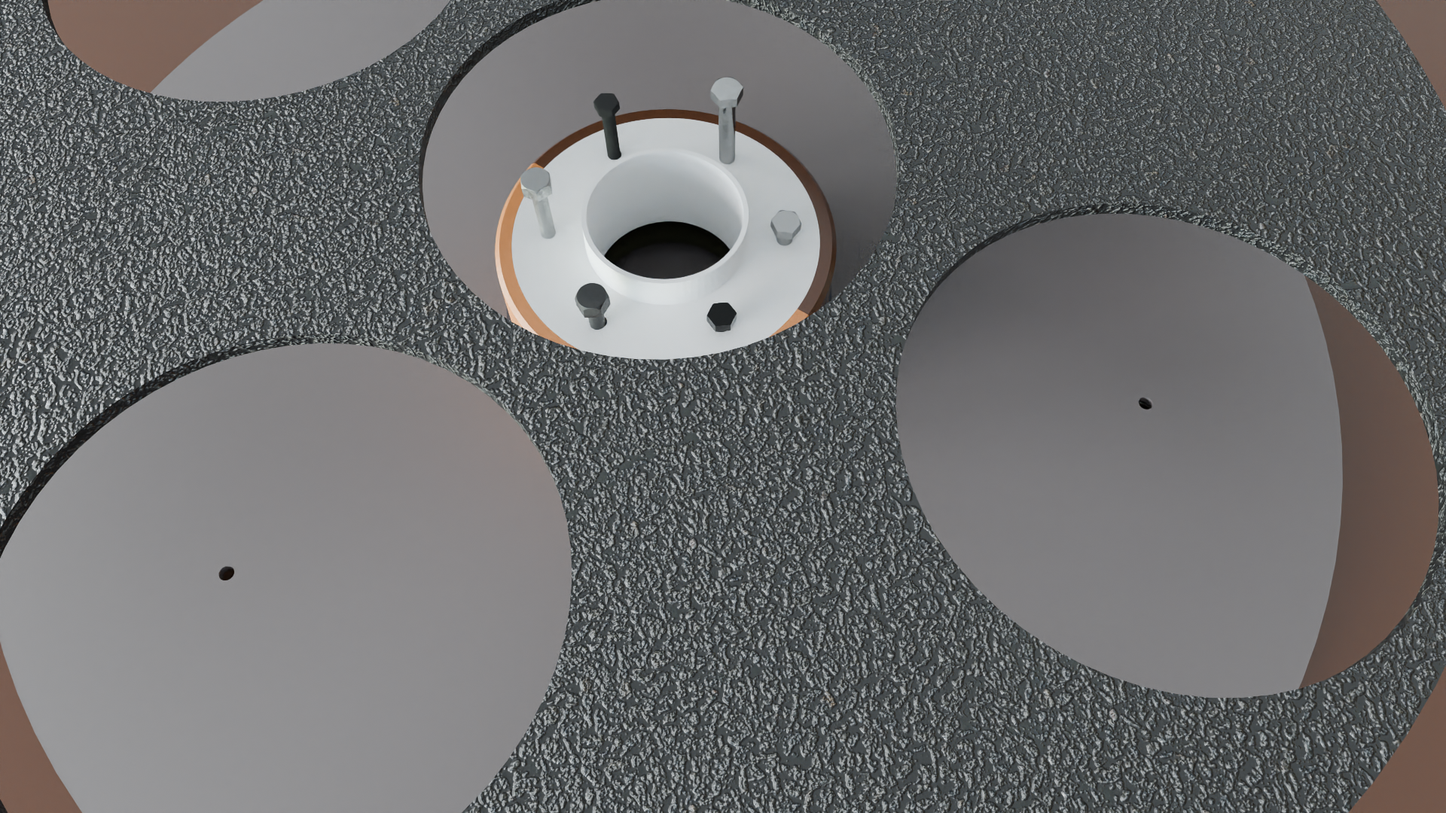bolt: (575, 283, 609, 311), (520, 167, 551, 194), (710, 78, 743, 101), (706, 303, 737, 326), (771, 210, 801, 233), (593, 93, 619, 111)
